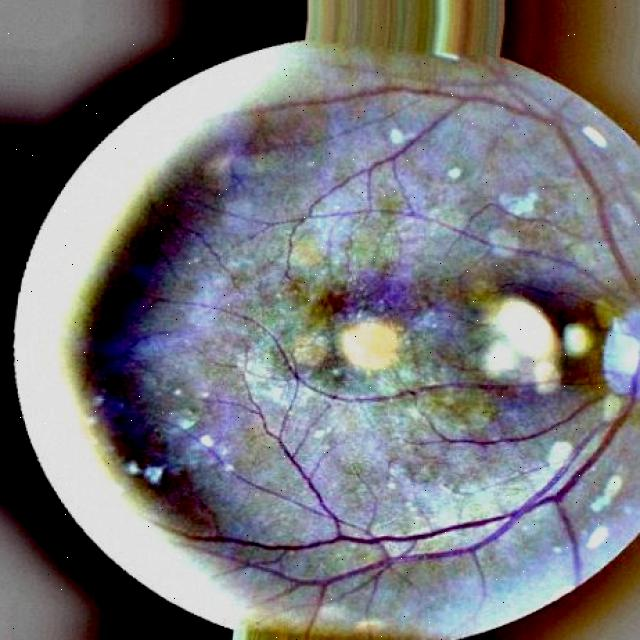Macula: (339, 321, 400, 373)
Nerves: (194, 340, 640, 593), (460, 98, 640, 306), (360, 111, 453, 202), (306, 380, 525, 405), (546, 310, 614, 389), (562, 262, 603, 294)
Optic Disk: (603, 312, 640, 399)
